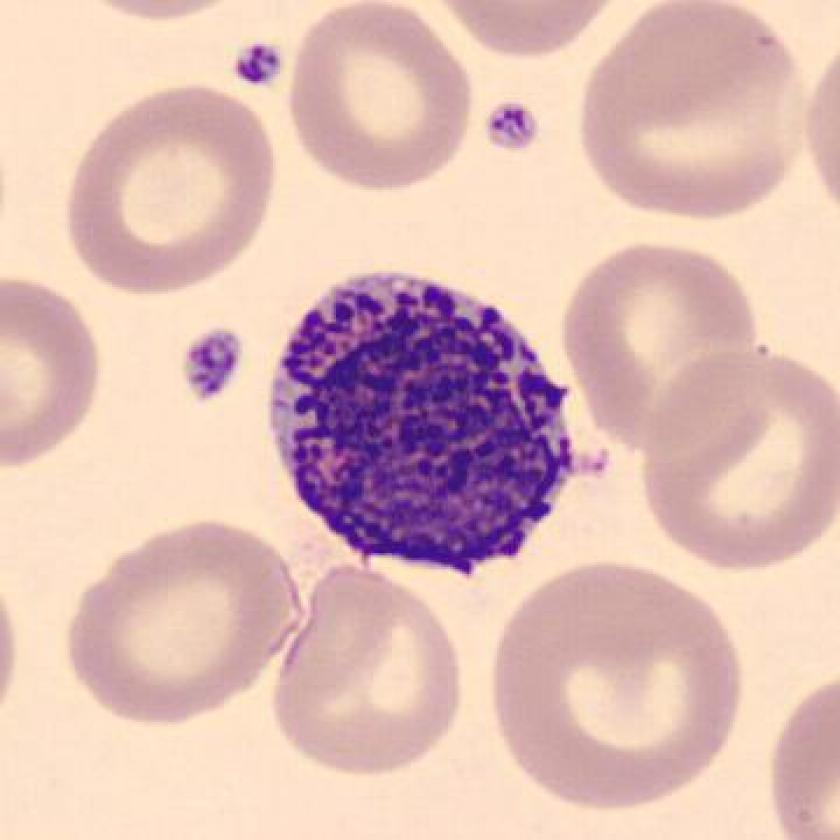basophil: (260, 253, 594, 582)
